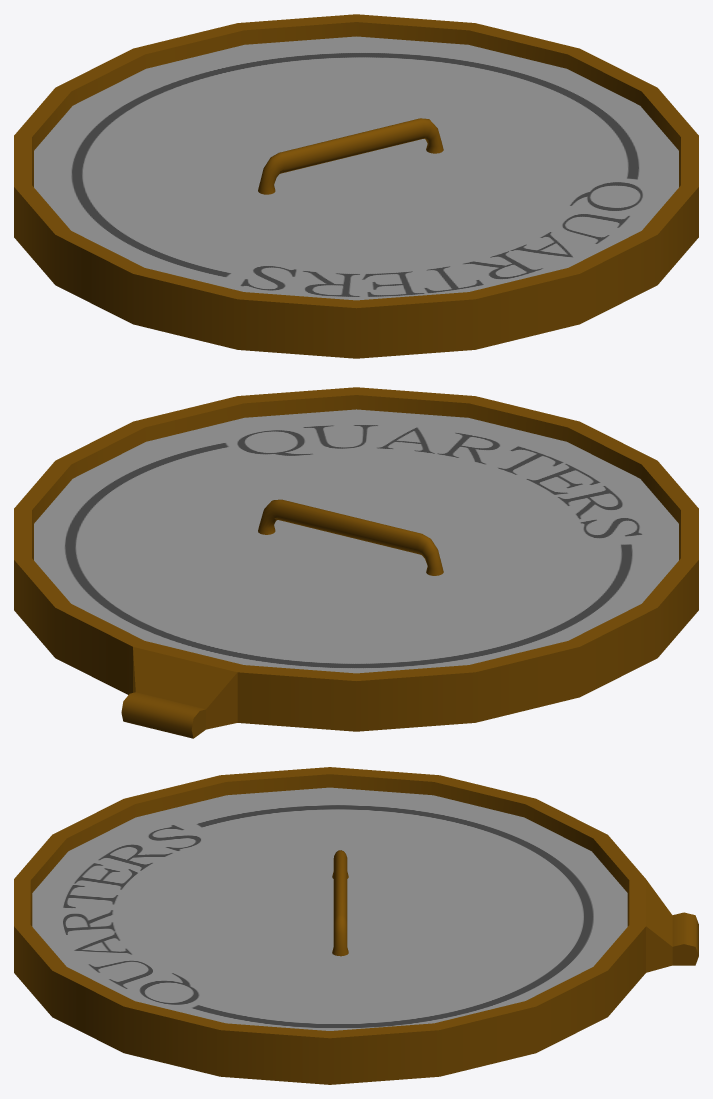
File: PlayerHomeHatch.fbx
3 views of the same model, one above another, from view 1: azimuth 30°, elevation 25°; view 2: azimuth 150°, elevation 25°; view 3: azimuth 270°, elevation 25° (orthographic). The views are drawn at different scales.
Visible parts, largest first — view 1: PlayerHomeHatch; view 2: PlayerHomeHatch; view 3: PlayerHomeHatch.
Part boxes in pixels (x1,y1,x2,y2): PlayerHomeHatch: (14,14,698,358); PlayerHomeHatch: (14,387,698,738); PlayerHomeHatch: (14,767,698,1084).
Size of the model in its own units: 4.35 by 0.4991 by 4.64.
